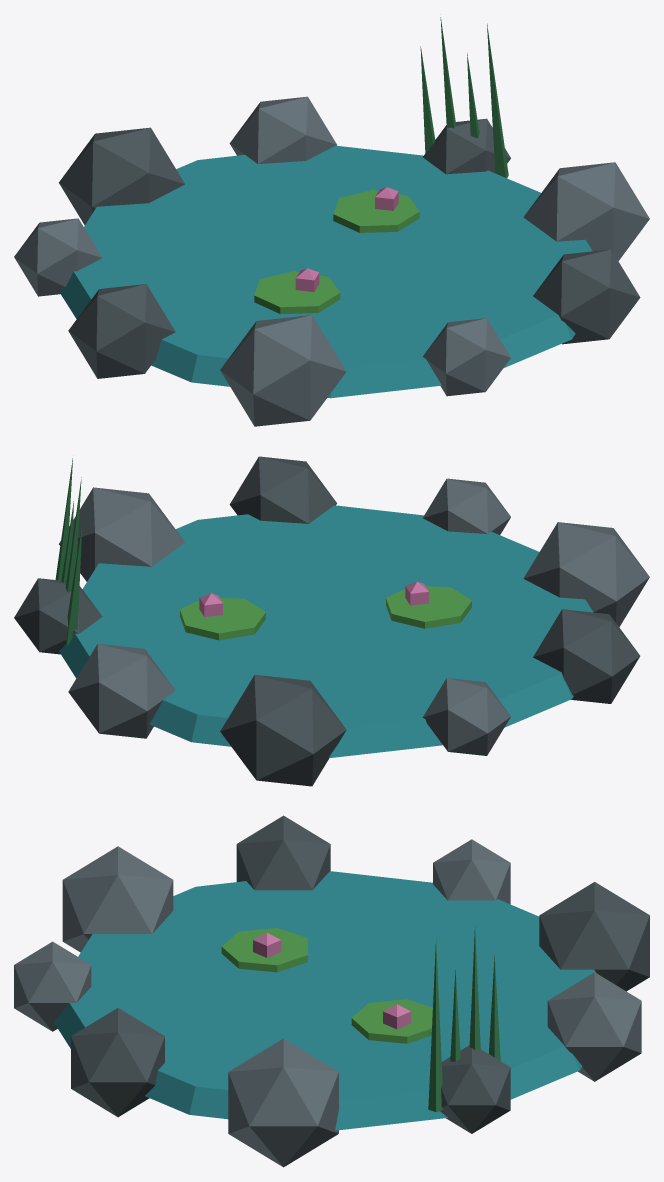
File: prop_pond.glb
3 renders of one model, top to bottom at view 1: azimuth 30°, elevation 25°; view 2: azimuth 150°, elevation 25°; view 3: azimuth 270°, elevation 25°, orthographic. The views are drawn at different scales.
Visible parts, largest first — view 1: prop_pond; view 2: prop_pond; view 3: prop_pond.
Part boxes in pixels (x1,y1,x2,y2): prop_pond: (14, 17, 649, 426); prop_pond: (14, 456, 649, 786); prop_pond: (14, 815, 649, 1167).
Bounding box in the file's own units: 1 × 0.3437 × 0.9787.
